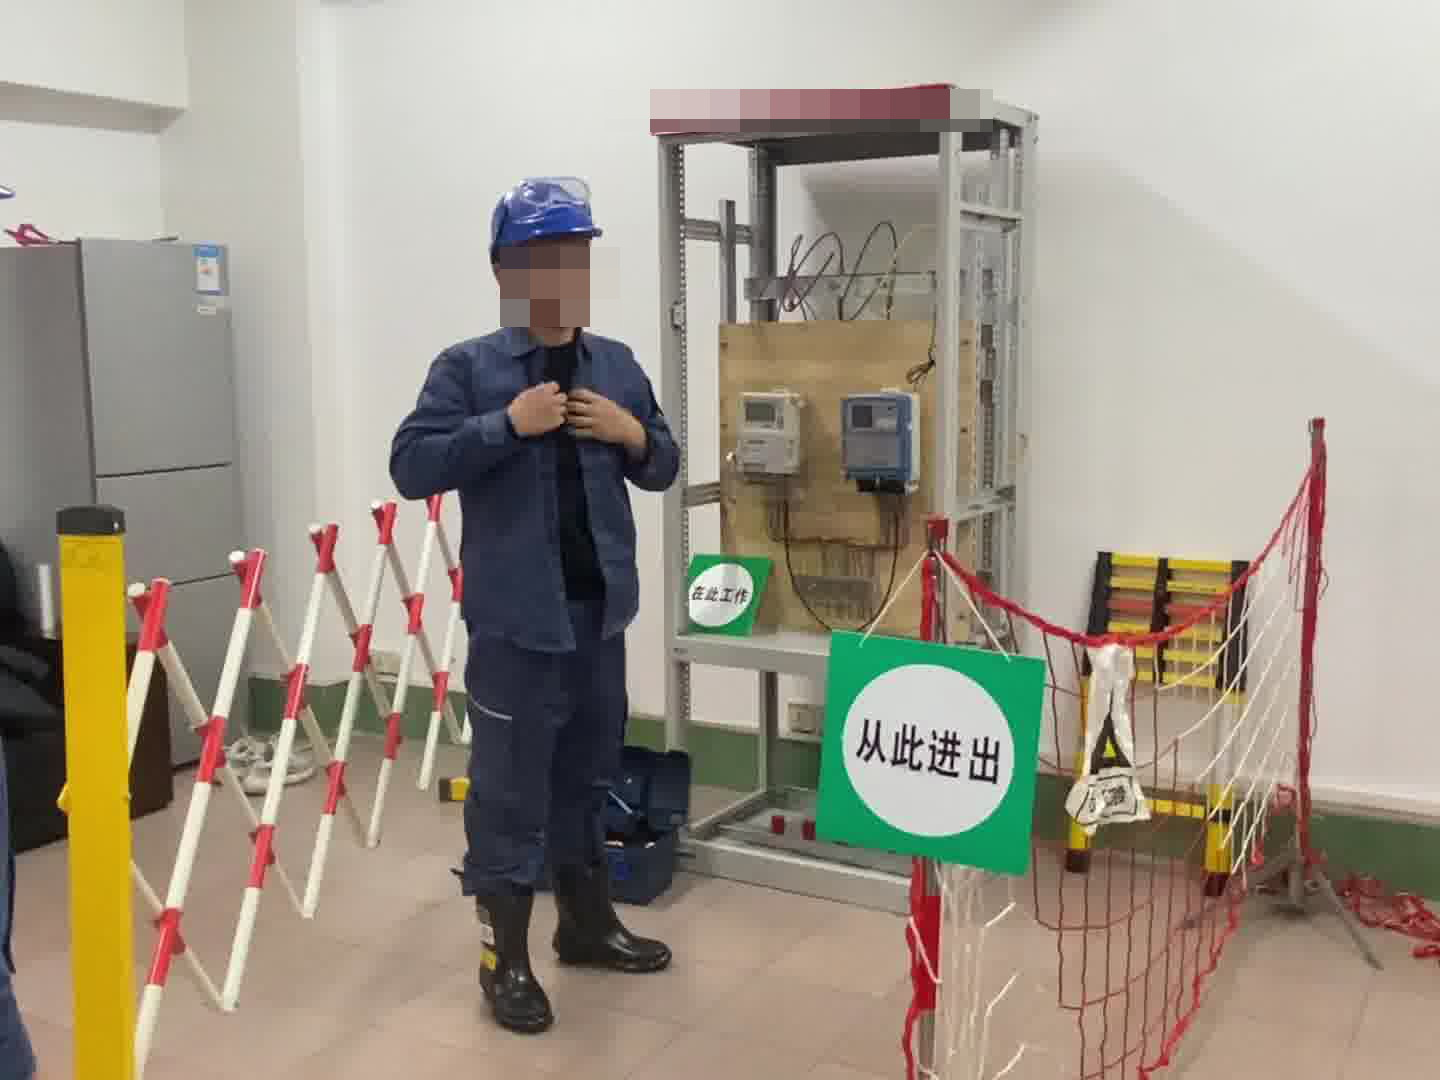downsuit: (454, 634, 640, 925)
halt: (484, 173, 608, 337)
hand: (569, 388, 654, 453), (505, 384, 562, 437)
inear: (492, 251, 526, 307)
intosign: (816, 635, 1036, 870)
person: (384, 168, 690, 1021)
shoe: (545, 867, 663, 966), (473, 886, 550, 1024)
upsuit: (392, 317, 677, 646)
worksign: (680, 551, 763, 635)
wrongsuit: (525, 344, 604, 608)
